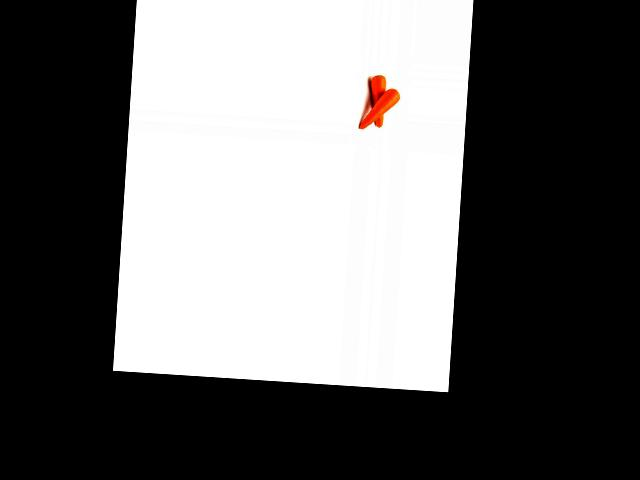carrot: (365, 70, 389, 134)
